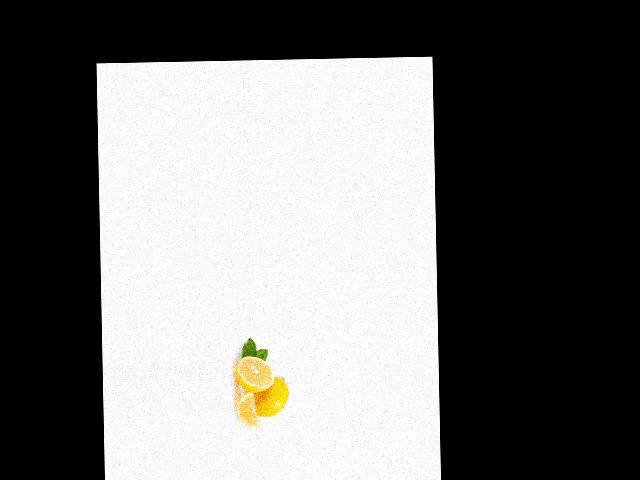lemon: (247, 373, 289, 419)
